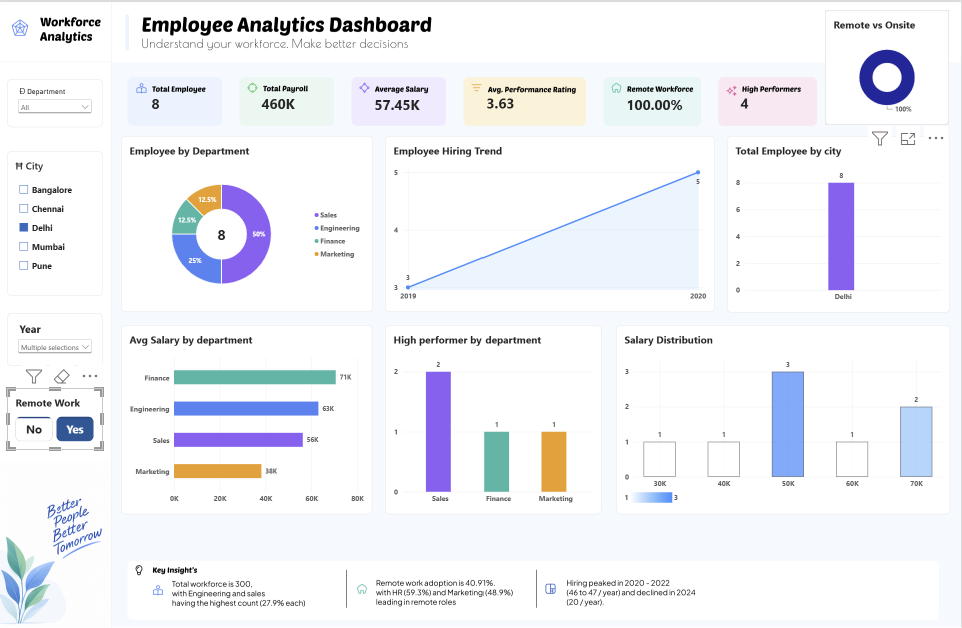

Layout of this report page (visuals, bound fields, positions):
{"tool":"powerbi","page":{"name":"Page 1","canvas":[1920,1250],"ordinal":0},"visuals":[{"type":"image","box":[0,0,1920,1250.7],"z":0},{"type":"cardVisual","fields":{"Data":["Employees_raw_Data_csv.Total Employee"]},"box":[298,174,84,54],"z":1000},{"type":"cardVisual","fields":{"Data":["Employees_raw_Data_csv.Total Payout"]},"box":[518,166,132,70],"z":2000},{"type":"cardVisual","fields":{"Data":["Employees_raw_Data_csv.Avg Salary"]},"box":[744,160,140,86],"z":3000},{"type":"cardVisual","fields":{"Data":["Employees_raw_Data_csv.Avg Performance Rating"]},"box":[966.9,156.9,153.8,88.8],"z":4000},{"type":"cardVisual","fields":{"Data":["Employees_raw_Data_csv.Remote Workforce"]},"box":[1246.7,150,155,106.7],"z":5000},{"type":"cardVisual","fields":{"Data":["Employees_raw_Data_csv.High performer"]},"box":[1473.6,164.5,142.7,73.6],"z":6000},{"type":"donutChart","title":"Employee by Department","fields":{"Category":["Employees_raw_Data_csv.department"],"Y":["Employees_raw_Data_csv.Total Employee"]},"box":[242,268,504,352],"z":7000},{"type":"areaChart","title":"Employee Hiring Trend","fields":{"Category":["Employees_raw_Data_csv.join_date.Variation.Date Hierarchy.Year"],"Y":["Employees_raw_Data_csv.Total Hire"]},"box":[770,268,658,352],"z":8000},{"type":"columnChart","fields":{"Category":["Employees_raw_Data_csv.city"],"Y":["Employees_raw_Data_csv.Total Employee"]},"box":[1451,267.1,445.8,353.3],"z":9000},{"type":"clusteredBarChart","fields":{"Category":["Employees_raw_Data_csv.department"],"Y":["Employees_raw_Data_csv.Avg Salary"]},"box":[241.8,643.5,502.6,378.5],"z":10000},{"type":"columnChart","fields":{"Category":["Employees_raw_Data_csv.department"],"Y":["Employees_raw_Data_csv.High performer"]},"box":[769.7,643.5,431.1,378.5],"z":11000},{"type":"columnChart","title":"Salary Distribution","fields":{"Category":["Employees_raw_Data_csv.salary (bins)"],"Y":["Employees_raw_Data_csv.Total Employee"]},"box":[1230.2,643.5,668.7,378.5],"z":12000},{"type":"pieChart","title":"Remote vs Onsite","fields":{"Category":["Employees_raw_Data_csv.remote_work"],"Y":["Employees_raw_Data_csv.Total Employee"]},"box":[1648.7,16.8,248.1,229.2],"z":12001},{"type":"slicer","fields":{"Values":["Employees_raw_Data_csv.department"]},"box":[14,154,191.4,96.7],"z":12002},{"type":"advancedSlicerVisual","title":"Remote Work","fields":{"Values":["Employees_raw_Data_csv.remote_work"]},"box":[14,770,191.4,124.1],"z":12003},{"type":"slicer","title":"Ħ City","fields":{"Values":["Employees_raw_Data_csv.city"]},"box":[14,298,191.4,290.2],"z":12004},{"type":"slicer","fields":{"Values":["Employees_raw_Data_csv.join_date.Variation.Date Hierarchy.Year"]},"box":[14,622,192,104],"z":12005}]}

Visuals, with their boxes on the page's 1920x1250 design canvas (x1, y1, x2, y2). These are canvas units, not pixel positions in the 962x628 screenshot, which may show the page scaled, cropped or inside an application window:
image: l=0, t=0, r=1920, b=1251
cardVisual - Employees_raw_Data_csv.Total Employee: l=298, t=174, r=382, b=228
cardVisual - Employees_raw_Data_csv.Total Payout: l=518, t=166, r=650, b=236
cardVisual - Employees_raw_Data_csv.Avg Salary: l=744, t=160, r=884, b=246
cardVisual - Employees_raw_Data_csv.Avg Performance Rating: l=967, t=157, r=1121, b=246
cardVisual - Employees_raw_Data_csv.Remote Workforce: l=1247, t=150, r=1402, b=257
cardVisual - Employees_raw_Data_csv.High performer: l=1474, t=164, r=1616, b=238
"Employee by Department" donutChart: l=242, t=268, r=746, b=620
"Employee Hiring Trend" areaChart: l=770, t=268, r=1428, b=620
columnChart - Employees_raw_Data_csv.city x Employees_raw_Data_csv.Total Employee: l=1451, t=267, r=1897, b=620
clusteredBarChart - Employees_raw_Data_csv.department x Employees_raw_Data_csv.Avg Salary: l=242, t=644, r=744, b=1022
columnChart - Employees_raw_Data_csv.department x Employees_raw_Data_csv.High performer: l=770, t=644, r=1201, b=1022
"Salary Distribution" columnChart: l=1230, t=644, r=1899, b=1022
"Remote vs Onsite" pieChart: l=1649, t=17, r=1897, b=246
slicer - Employees_raw_Data_csv.department: l=14, t=154, r=205, b=251
"Remote Work" advancedSlicerVisual: l=14, t=770, r=205, b=894
"Ħ City" slicer: l=14, t=298, r=205, b=588
slicer - Employees_raw_Data_csv.join_date.Variation.Date Hierarchy.Year: l=14, t=622, r=206, b=726
